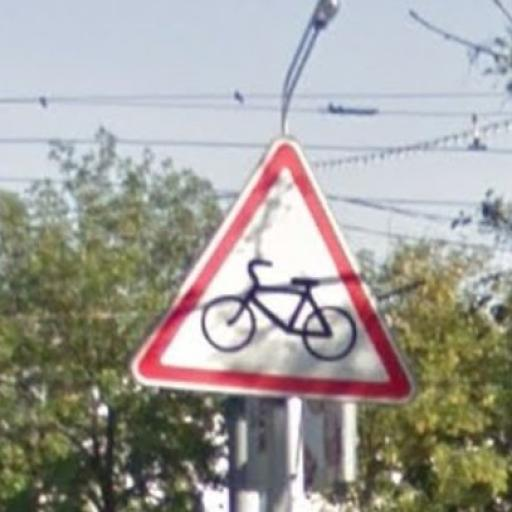traffic_sign: (128, 136, 417, 408)
